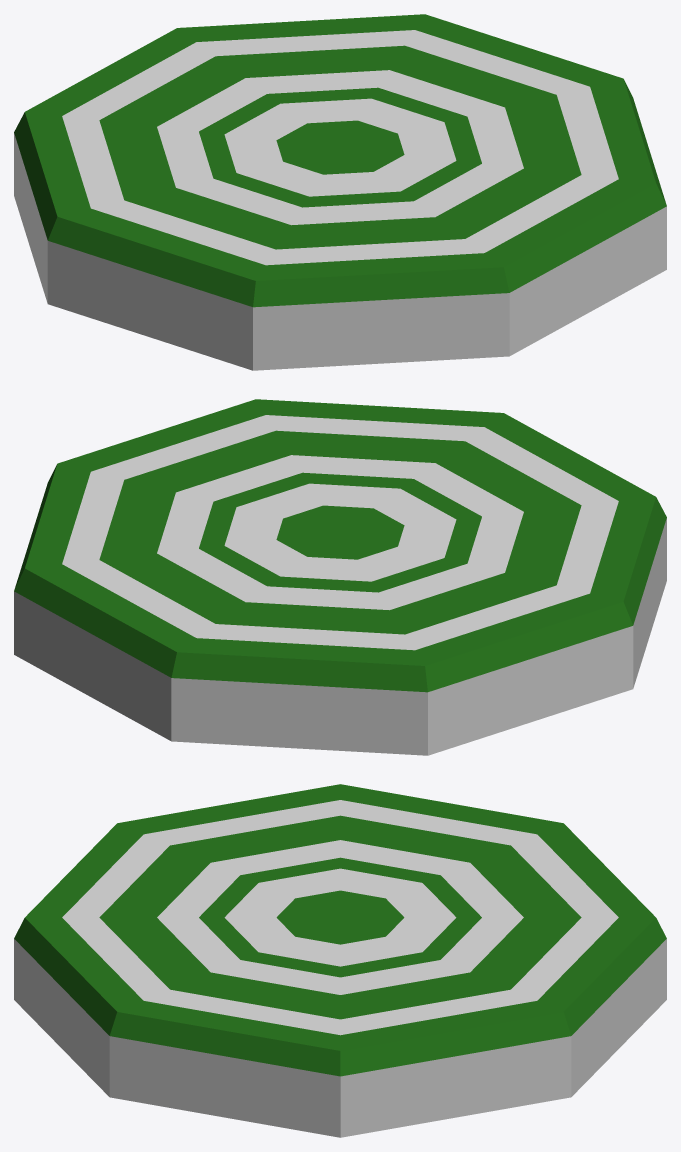
File: basellegada.fbx
3 renders of one model, top to bottom at view 1: azimuth 30°, elevation 25°; view 2: azimuth 150°, elevation 25°; view 3: azimuth 270°, elevation 25°, orthographic. The views are drawn at different scales.
Visible parts, largest first — view 1: Circle; view 2: Circle; view 3: Circle.
Boxes of the visible parts, x1,y1,x2,y2 form: Circle: [14, 14, 666, 370]; Circle: [14, 399, 666, 755]; Circle: [14, 784, 666, 1137].
Size of the model in its own units: 200 by 27.8 by 200.
